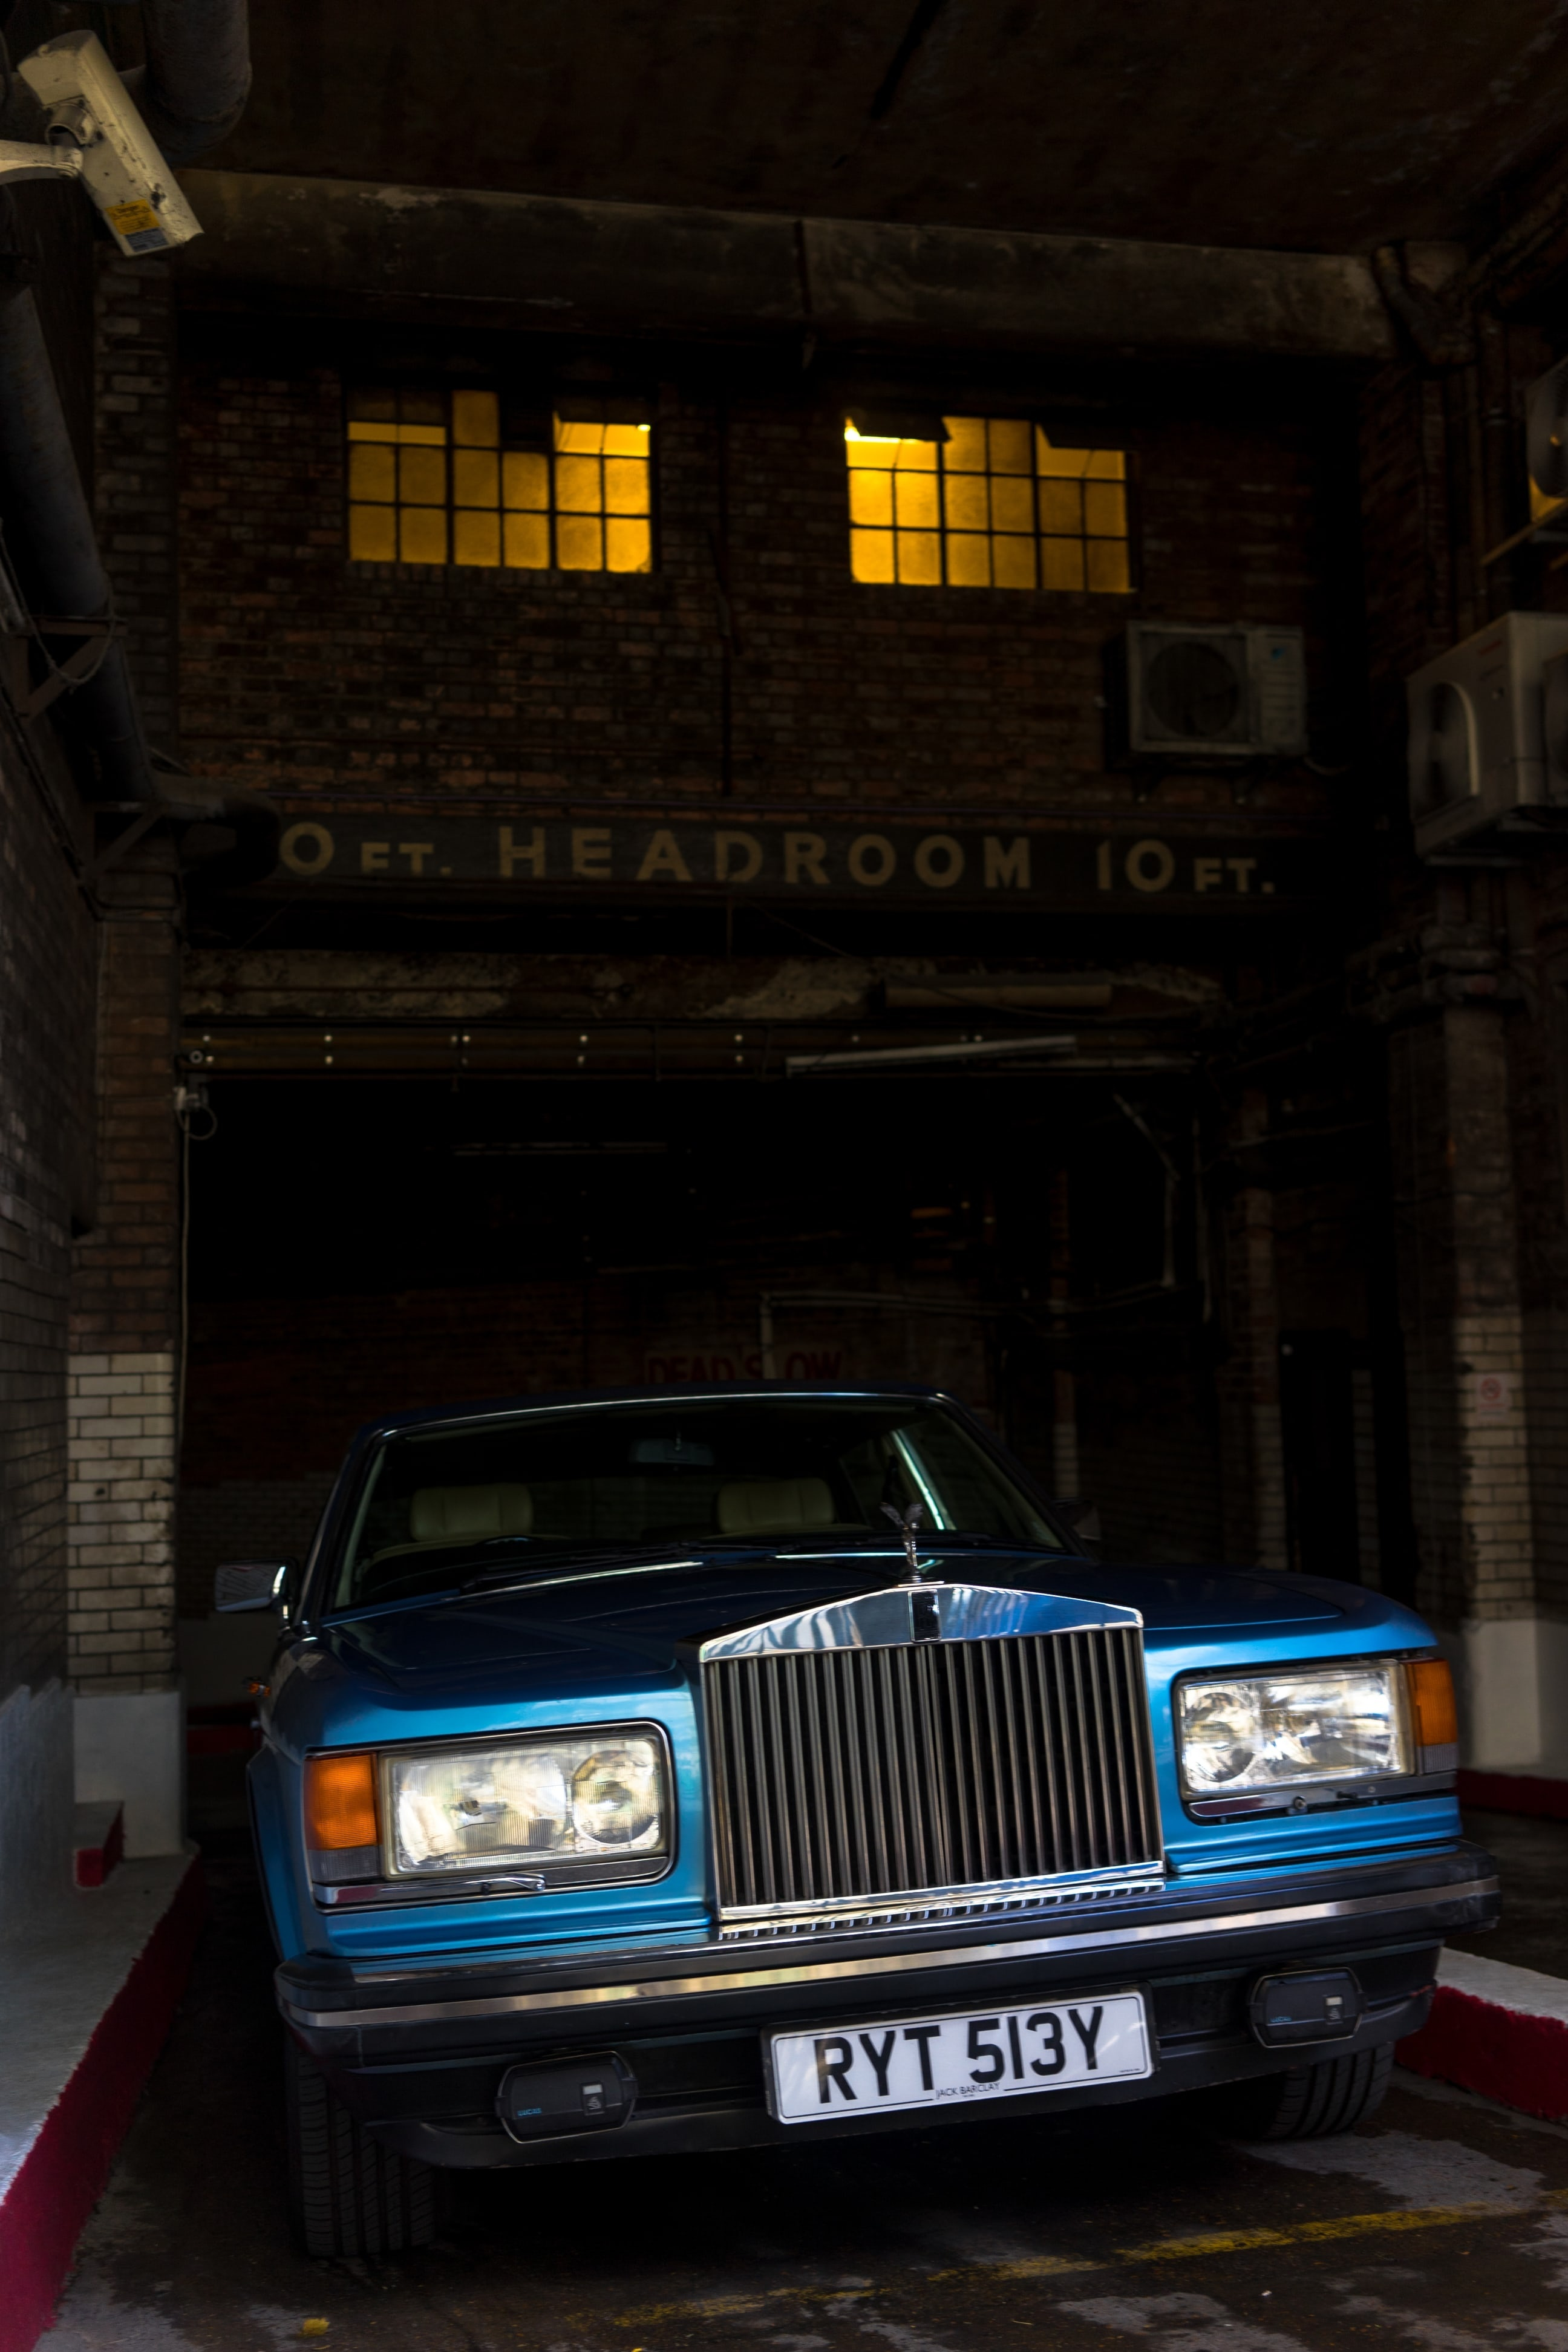plaka: (765, 1978, 1160, 2125)
